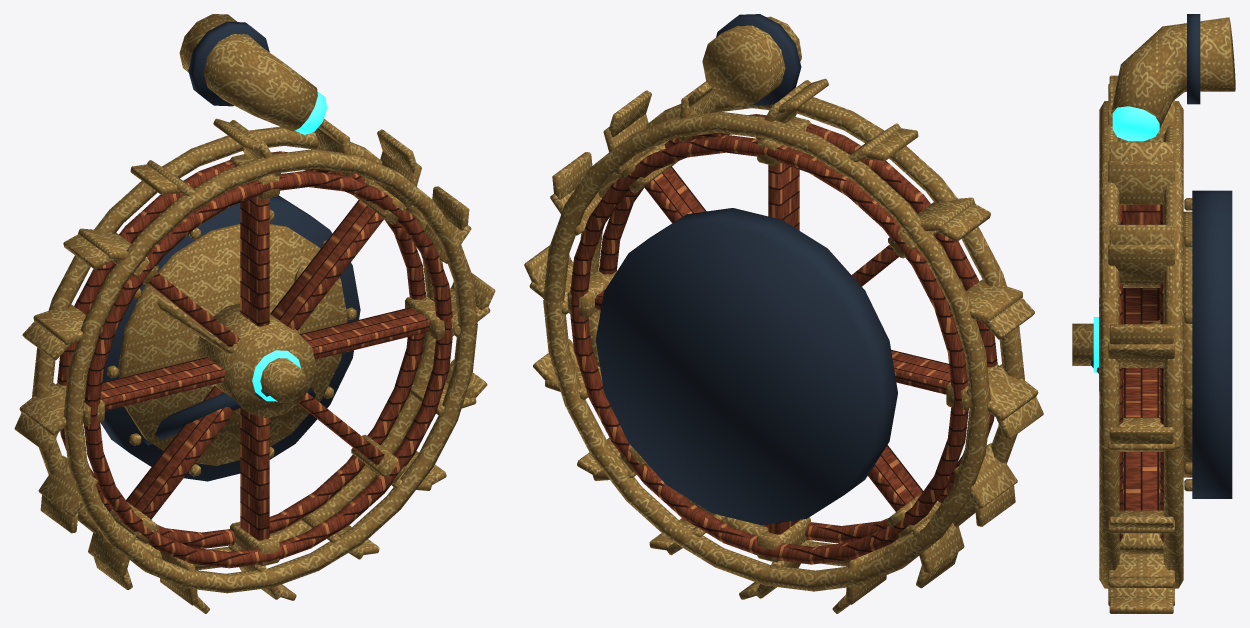
The model's file is hydro_turbine.glb.
3 renders of one model, left to right at view 1: azimuth 30°, elevation 25°; view 2: azimuth 150°, elevation 25°; view 3: azimuth 270°, elevation 25°, orthographic. The views are drawn at different scales.
Visible parts, largest first — view 1: turbine_wheel, turbine_housing; view 2: turbine_wheel, turbine_housing; view 3: turbine_wheel, turbine_housing.
Part boxes in pixels (x1,y1,x2,y2): turbine_wheel: (14, 118, 495, 613); turbine_housing: (101, 14, 360, 481); turbine_wheel: (524, 78, 1043, 613); turbine_housing: (595, 14, 897, 524); turbine_wheel: (1093, 75, 1183, 613); turbine_housing: (1072, 14, 1235, 498).
Bounding box in the file's own units: 2.01 × 2.35 × 0.6127.
Materials: 4 (2 with a texture image).
